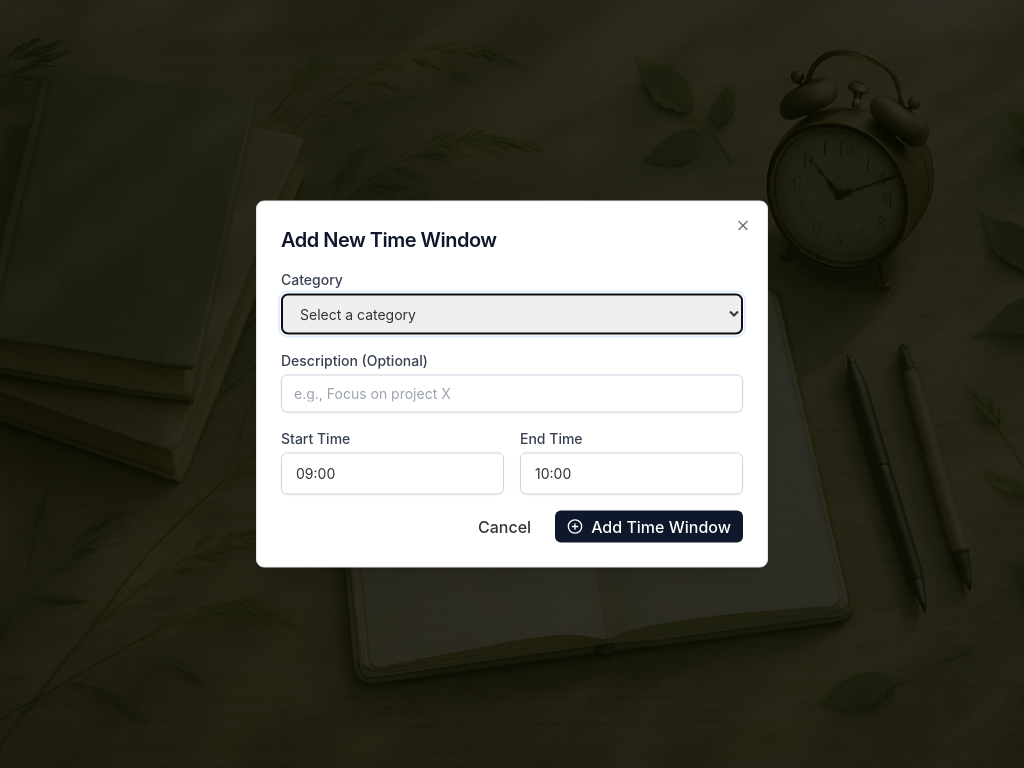
Scenario: TimeWindowModal › Create Mode › shows validation error when category is missing
Click the button "Add Time Window" at (649,526), box [555,510,743,542]
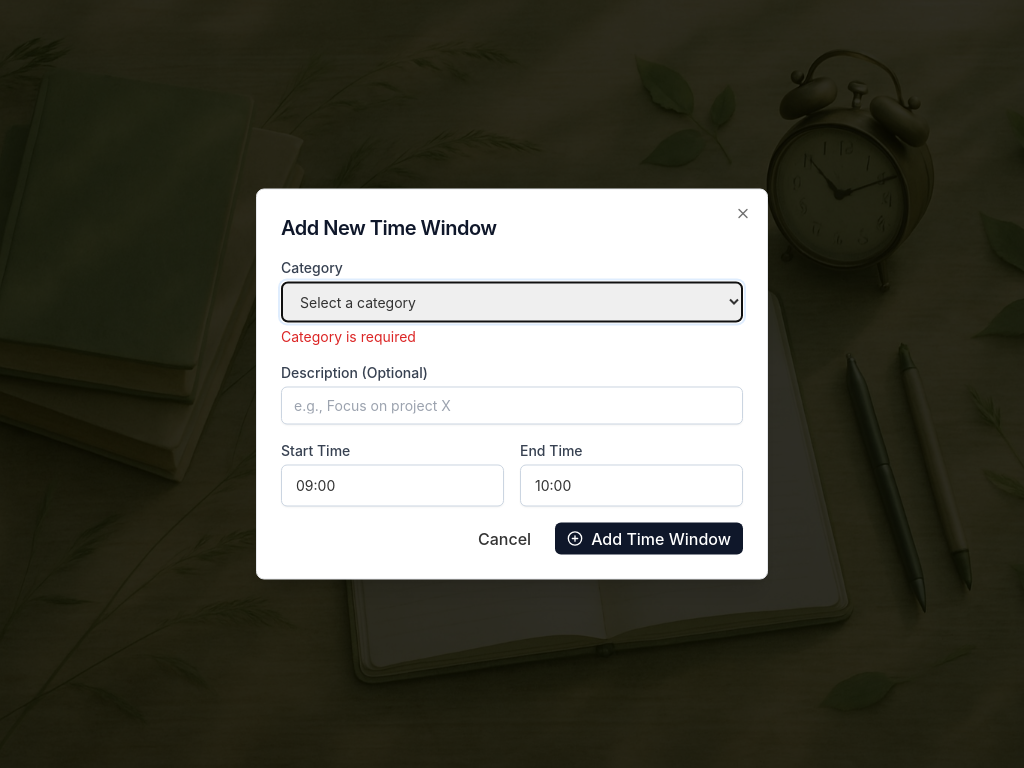
Now the text "Category is required" is shown, box [281,328,416,344]
